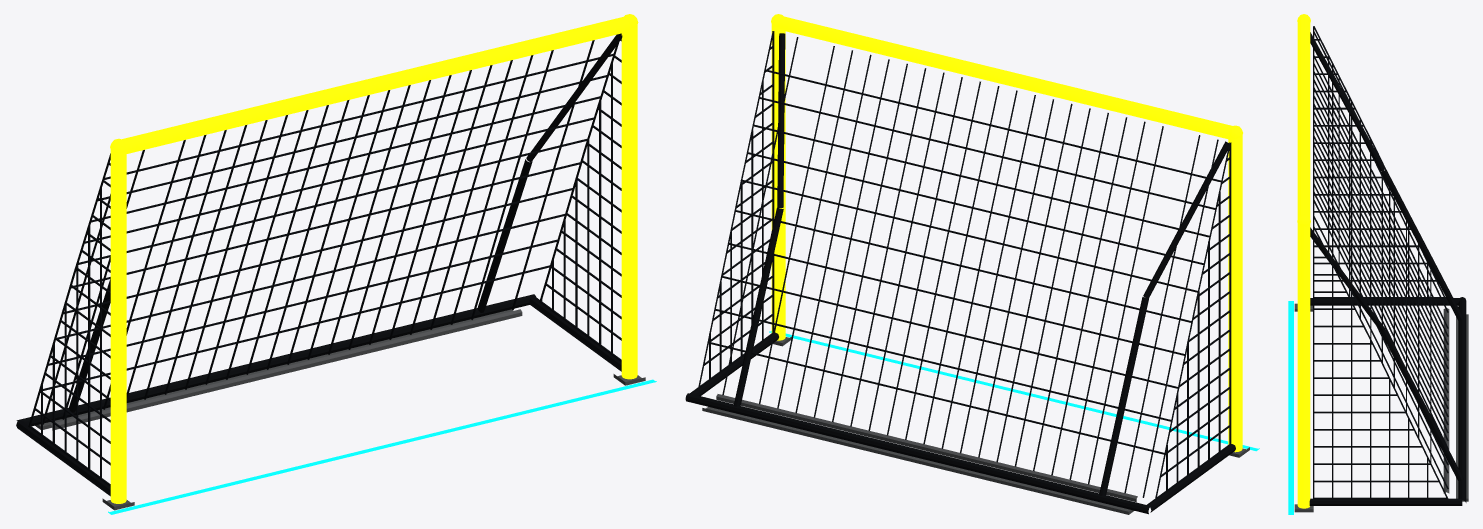
File: tt_rink_goal.glb
3 views of the same model, side by side, from view 1: azimuth 30°, elevation 25°; view 2: azimuth 150°, elevation 25°; view 3: azimuth 270°, elevation 25° (orthographic). The views are drawn at different scales.
Parts seen in each view (by area): view 1: Net_Cord, Posts, Frame_Base, Net_Lead_Rope, Crease_Line_LED, Ground_Pads, Hoop_Hinge; view 2: Net_Cord, Posts, Frame_Base, Ground_Pads, Net_Lead_Rope, Hoop_Hinge, Crease_Line_LED; view 3: Net_Cord, Posts, Frame_Base, Hoop_Hinge, Crease_Line_LED, Ground_Pads, Net_Lead_Rope.
Part boxes in pixels (x1=…): Net_Cord: x1=28, y1=33, x2=621, y2=486; Posts: x1=110, y1=14, x2=638, y2=503; Frame_Base: x1=16, y1=159, x2=621, y2=496; Net_Lead_Rope: x1=51, y1=309, x2=522, y2=430; Crease_Line_LED: x1=108, y1=379, x2=656, y2=514; Ground_Pads: x1=35, y1=309, x2=645, y2=510; Hoop_Hinge: x1=526, y1=34, x2=622, y2=161; Net_Cord: x1=698, y1=31, x2=1231, y2=499; Posts: x1=771, y1=14, x2=1242, y2=452; Frame_Base: x1=685, y1=207, x2=1235, y2=514; Ground_Pads: x1=702, y1=336, x2=1249, y2=514; Net_Lead_Rope: x1=716, y1=394, x2=1137, y2=502; Hoop_Hinge: x1=777, y1=33, x2=1229, y2=298; Crease_Line_LED: x1=769, y1=331, x2=1259, y2=451; Net_Cord: x1=1313, y1=26, x2=1448, y2=499; Posts: x1=1297, y1=14, x2=1310, y2=508; Frame_Base: x1=1309, y1=169, x2=1466, y2=505; Hoop_Hinge: x1=1310, y1=32, x2=1385, y2=332; Crease_Line_LED: x1=1288, y1=301, x2=1293, y2=514; Ground_Pads: x1=1294, y1=303, x2=1468, y2=512; Net_Lead_Rope: x1=1443, y1=308, x2=1449, y2=493.
Size of what is drawn, in the model's own units: 3.2 by 2.04 by 1.14.
Materials: 5 (2 with a texture image).
